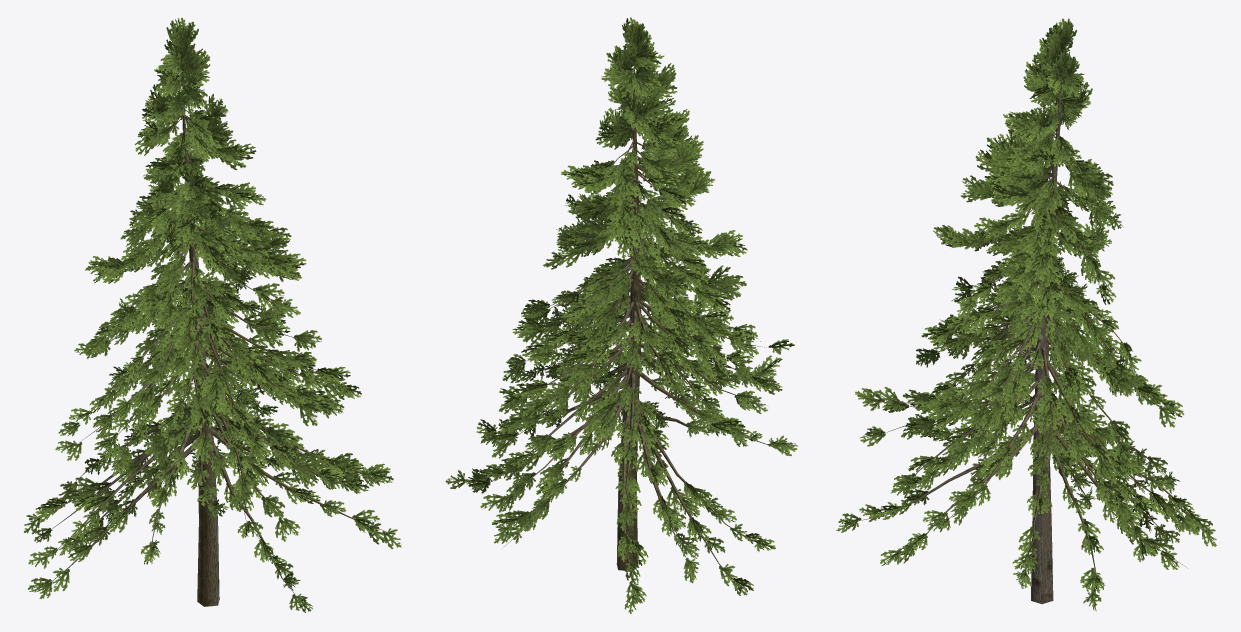
The model's file is tree_pine.glb.
3 renders of one model, left to right at view 1: azimuth 30°, elevation 25°; view 2: azimuth 150°, elevation 25°; view 3: azimuth 270°, elevation 25°, orthographic. The views are drawn at different scales.
Parts seen in each view (by area): view 1: Tree; view 2: Tree; view 3: Tree.
Part boxes in pixels (x1=…): Tree: x1=24, y1=17, x2=401, y2=612; Tree: x1=445, y1=17, x2=797, y2=614; Tree: x1=836, y1=18, x2=1216, y2=611.
Bounding box in the file's own units: 9.1 × 14.99 × 9.34.
Materials: 2 (2 with a texture image).
